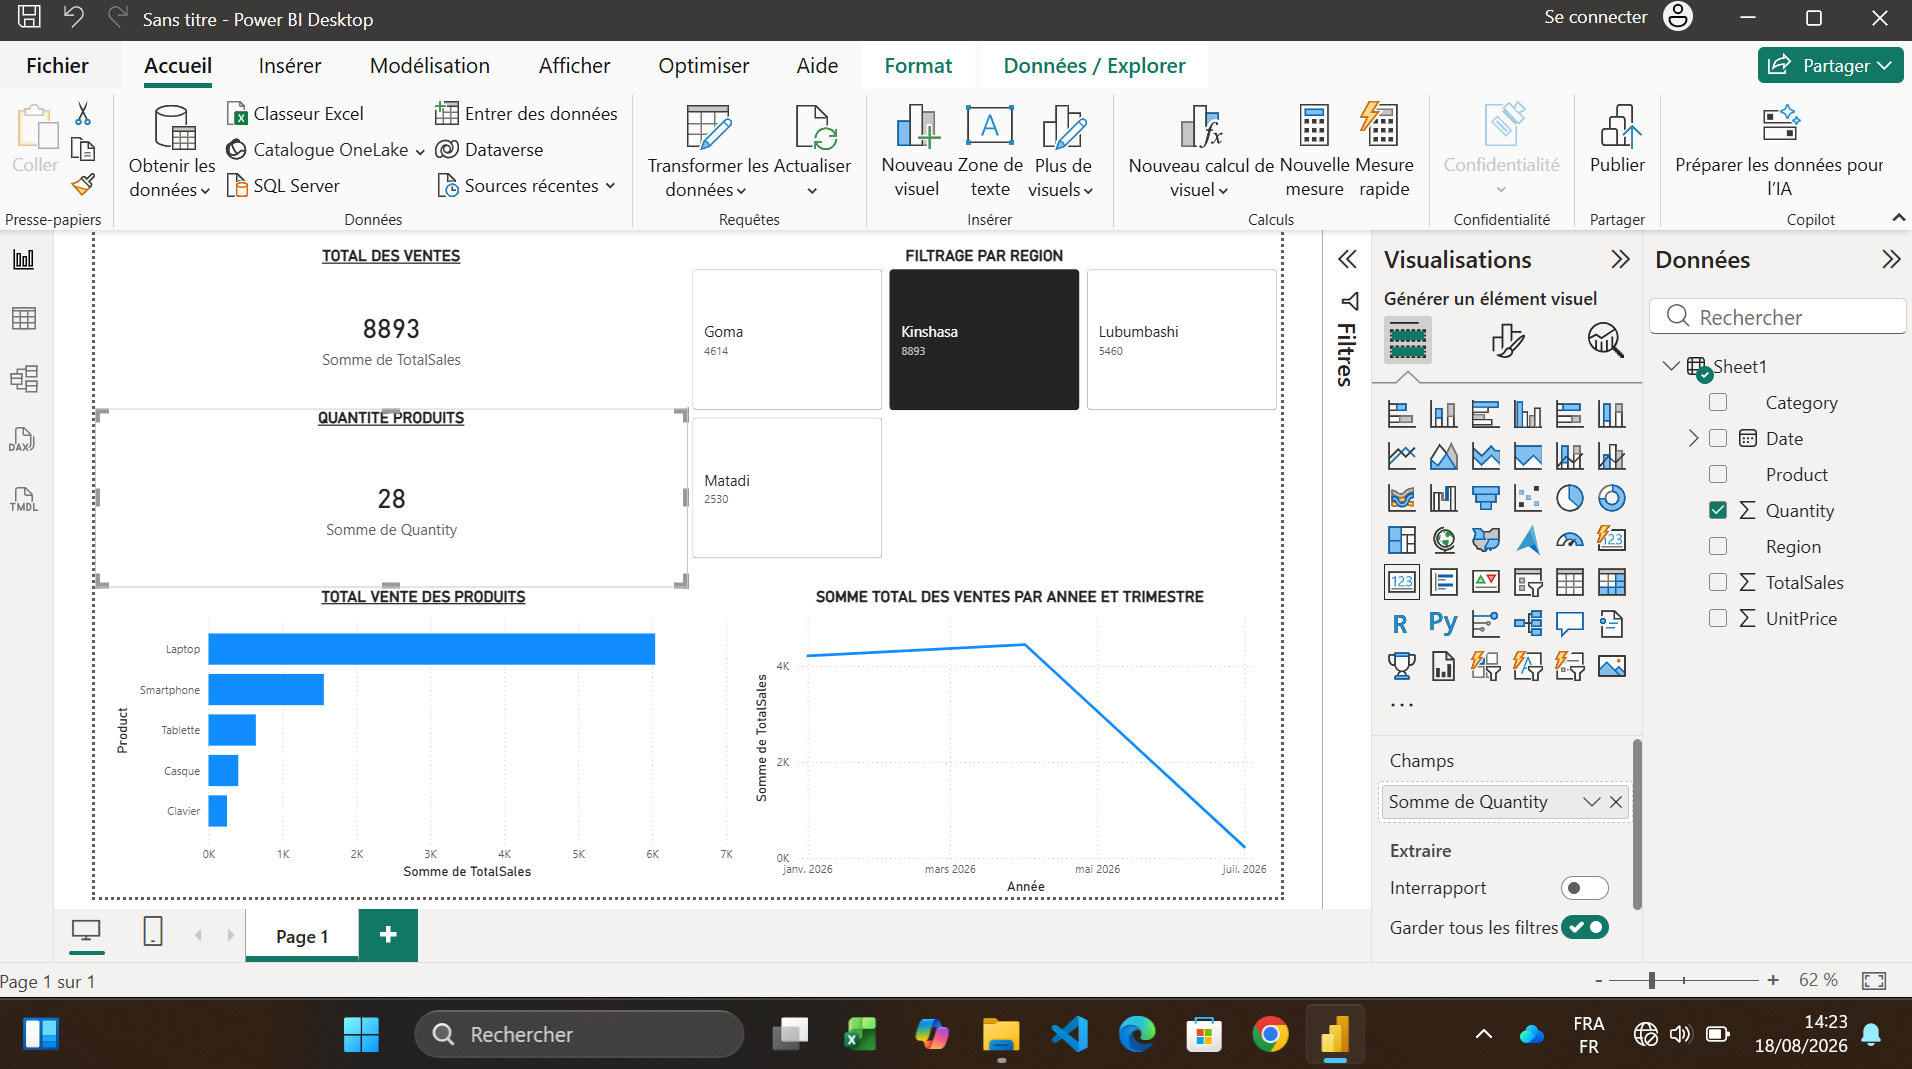

The dashboard page shown, as its layout file describes it:
{"tool":"powerbi","page":{"name":"Page 1","canvas":[1280,720],"ordinal":0},"visuals":[{"type":"advancedSlicerVisual","title":"FILTRAGE PAR REGION","fields":{"Values":["Sheet1.Region"],"Label":["Sum(Sheet1.TotalSales)"]},"box":[639.6,17.8,641.2,341.7],"z":0},{"type":"clusteredBarChart","title":"TOTAL VENTE DES PRODUITS","fields":{"Category":["Sheet1.Product"],"Y":["Sum(Sheet1.TotalSales)"]},"box":[0,385.4,676.8,319],"z":1},{"type":"card","title":"QUANTITE PRODUITS","fields":{"Values":["Sum(Sheet1.Quantity)"]},"box":[0,192.7,639.6,192.7],"z":2},{"type":"card","title":"TOTAL DES VENTES","fields":{"Values":["Sum(Sheet1.TotalSales)"]},"box":[0,17.8,639.6,174.9],"z":3},{"type":"lineChart","title":"SOMME TOTAL DES VENTES PAR ANNEE ET TRIMESTRE","fields":{"Category":["Sheet1.Date.Variation.Hiérarchie de dates.Année","Sheet1.Date.Variation.Hiérarchie de dates.Trimestre","Sheet1.Date.Variation.Hiérarchie de dates.Mois","Sheet1.Date.Variation.Hiérarchie de dates.Jour"],"Y":["Sum(Sheet1.TotalSales)"]},"box":[706,385.4,563.5,335.2],"z":4}]}

Visuals, with their boxes on the page's 1280x720 design canvas (x1, y1, x2, y2). These are canvas units, not pixel positions in the 1912x1069 screenshot, which may show the page scaled, cropped or inside an application window:
"FILTRAGE PAR REGION" advancedSlicerVisual: <region>640, 18, 1281, 360</region>
"TOTAL VENTE DES PRODUITS" clusteredBarChart: <region>0, 385, 677, 704</region>
"QUANTITE PRODUITS" card: <region>0, 193, 640, 385</region>
"TOTAL DES VENTES" card: <region>0, 18, 640, 193</region>
"SOMME TOTAL DES VENTES PAR ANNEE ET TRIMESTRE" lineChart: <region>706, 385, 1270, 721</region>
